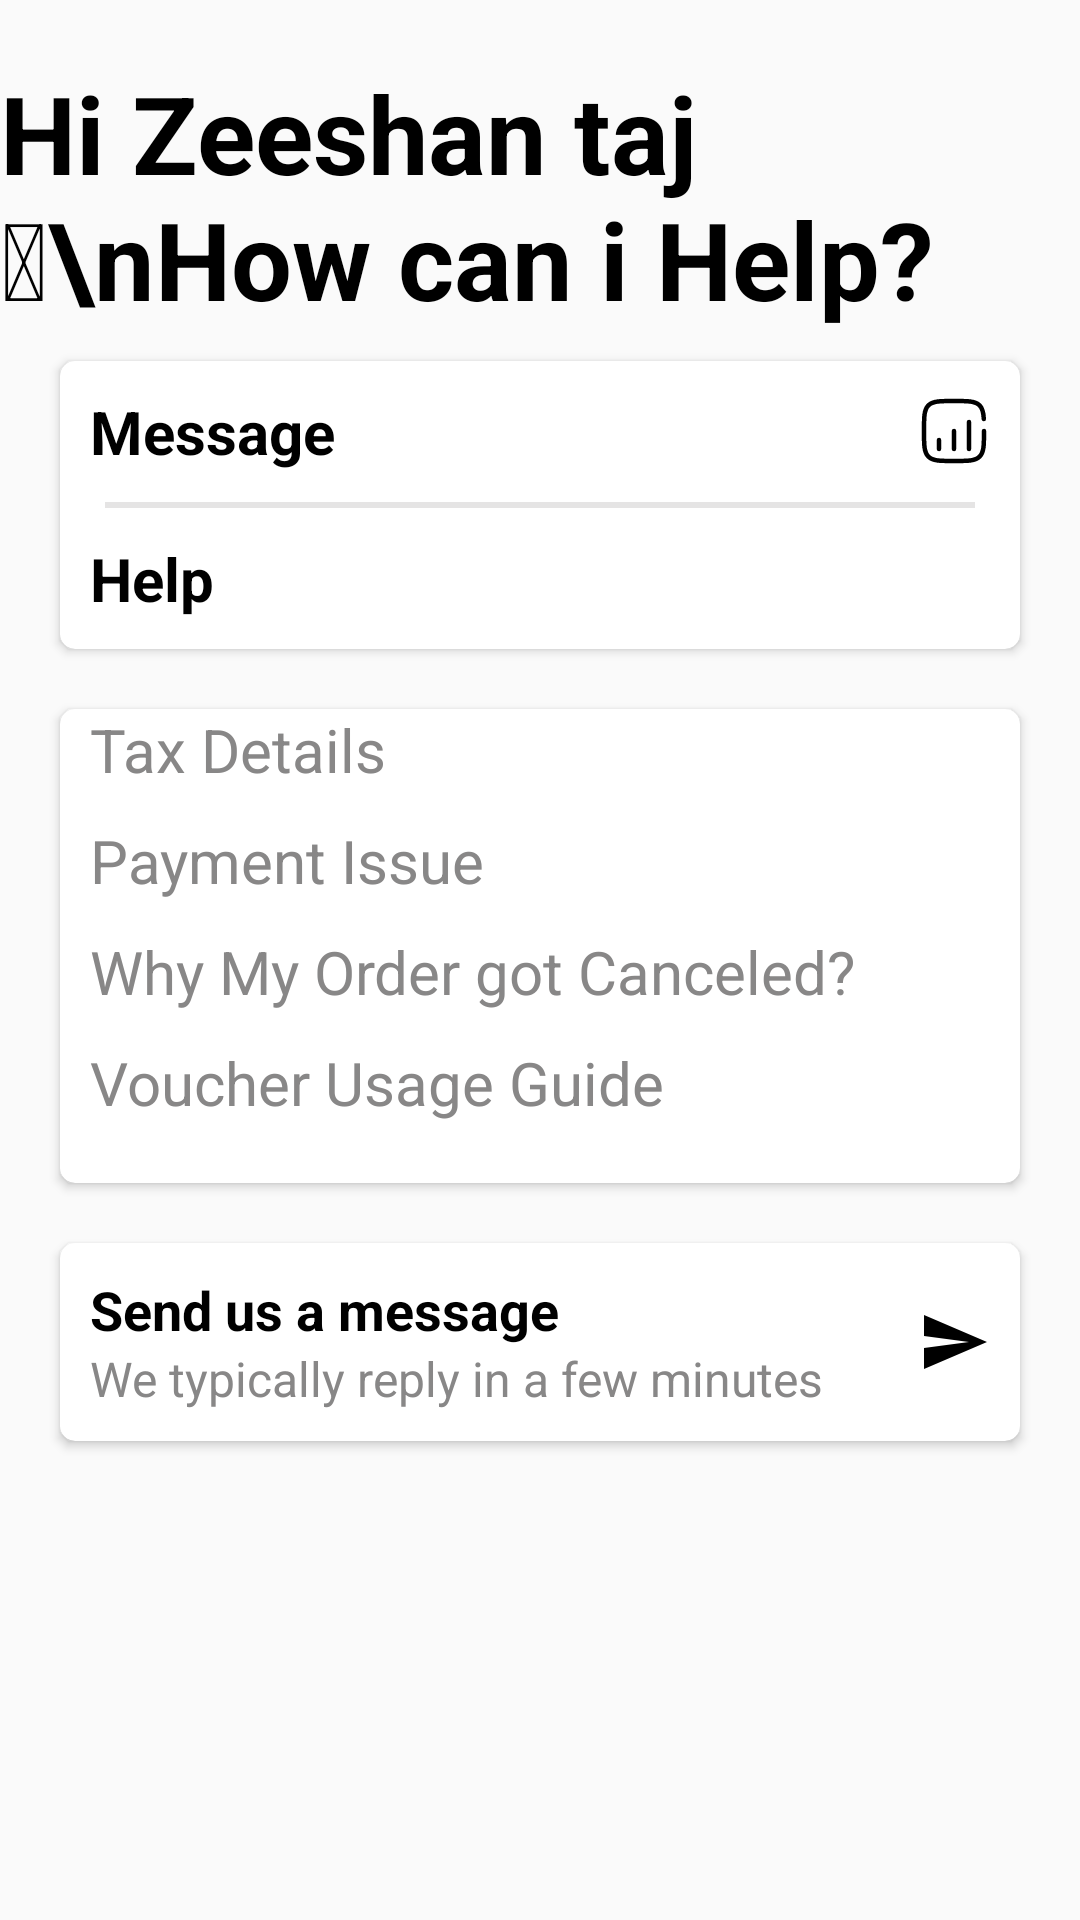

Icons on this 1080w x 1920h Android screen, each with its box as (x1, y1, x2, y2):
send: (924, 1315, 987, 1369)
